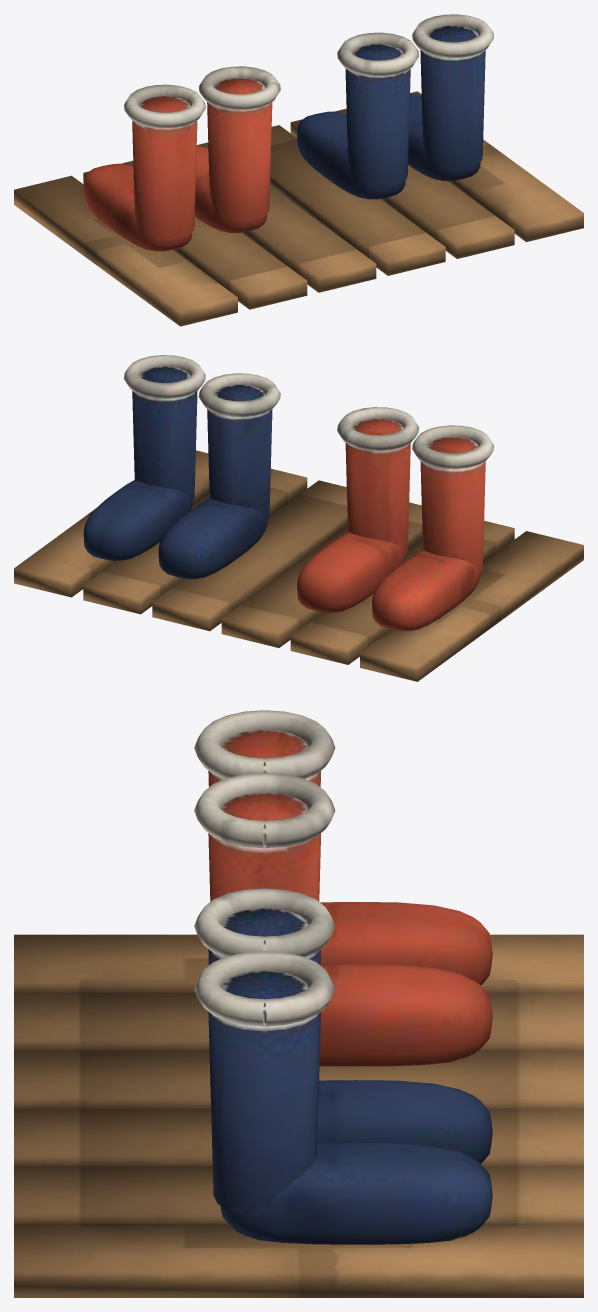
The model's file is boot_tray.glb.
3 renders of one model, top to bottom at view 1: azimuth 30°, elevation 25°; view 2: azimuth 150°, elevation 25°; view 3: azimuth 270°, elevation 25°, orthographic. The views are drawn at different scales.
Parts seen in each view (by area): view 1: prop_boot_tray_felt, prop_boot_tray_wood; view 2: prop_boot_tray_felt, prop_boot_tray_wood; view 3: prop_boot_tray_wood, prop_boot_tray_felt.
Boxes of the visible parts, x1=… form: prop_boot_tray_felt: x1=83, y1=14, x2=493, y2=251; prop_boot_tray_wood: x1=14, y1=91, x2=583, y2=326; prop_boot_tray_felt: x1=83, y1=355, x2=493, y2=630; prop_boot_tray_wood: x1=14, y1=450, x2=583, y2=681; prop_boot_tray_wood: x1=14, y1=934, x2=583, y2=1297; prop_boot_tray_felt: x1=194, y1=710, x2=492, y2=1244.
Size of the model in its own units: 1.4 by 0.5258 by 1.
2 materials, 2 textured.
